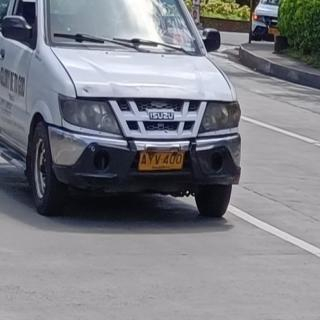license: (140, 153, 185, 172)
